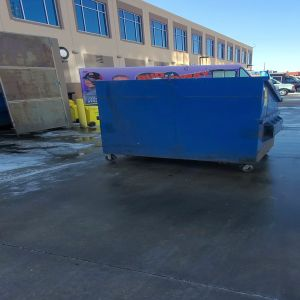Dumpster: (93, 79, 285, 176)
